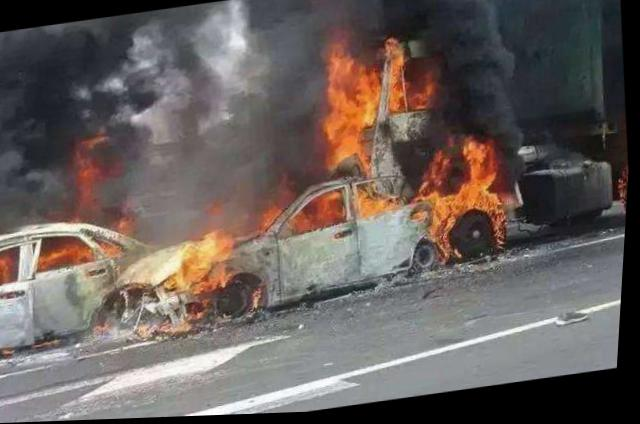fire: (319, 41, 371, 166), (178, 231, 240, 295), (70, 151, 110, 213), (383, 37, 412, 116), (464, 137, 502, 196), (414, 154, 455, 205), (433, 193, 507, 219), (357, 68, 388, 127), (40, 238, 95, 270), (361, 187, 406, 219), (433, 218, 460, 267), (310, 195, 349, 228), (404, 77, 437, 112), (0, 252, 25, 282), (495, 210, 514, 249)
